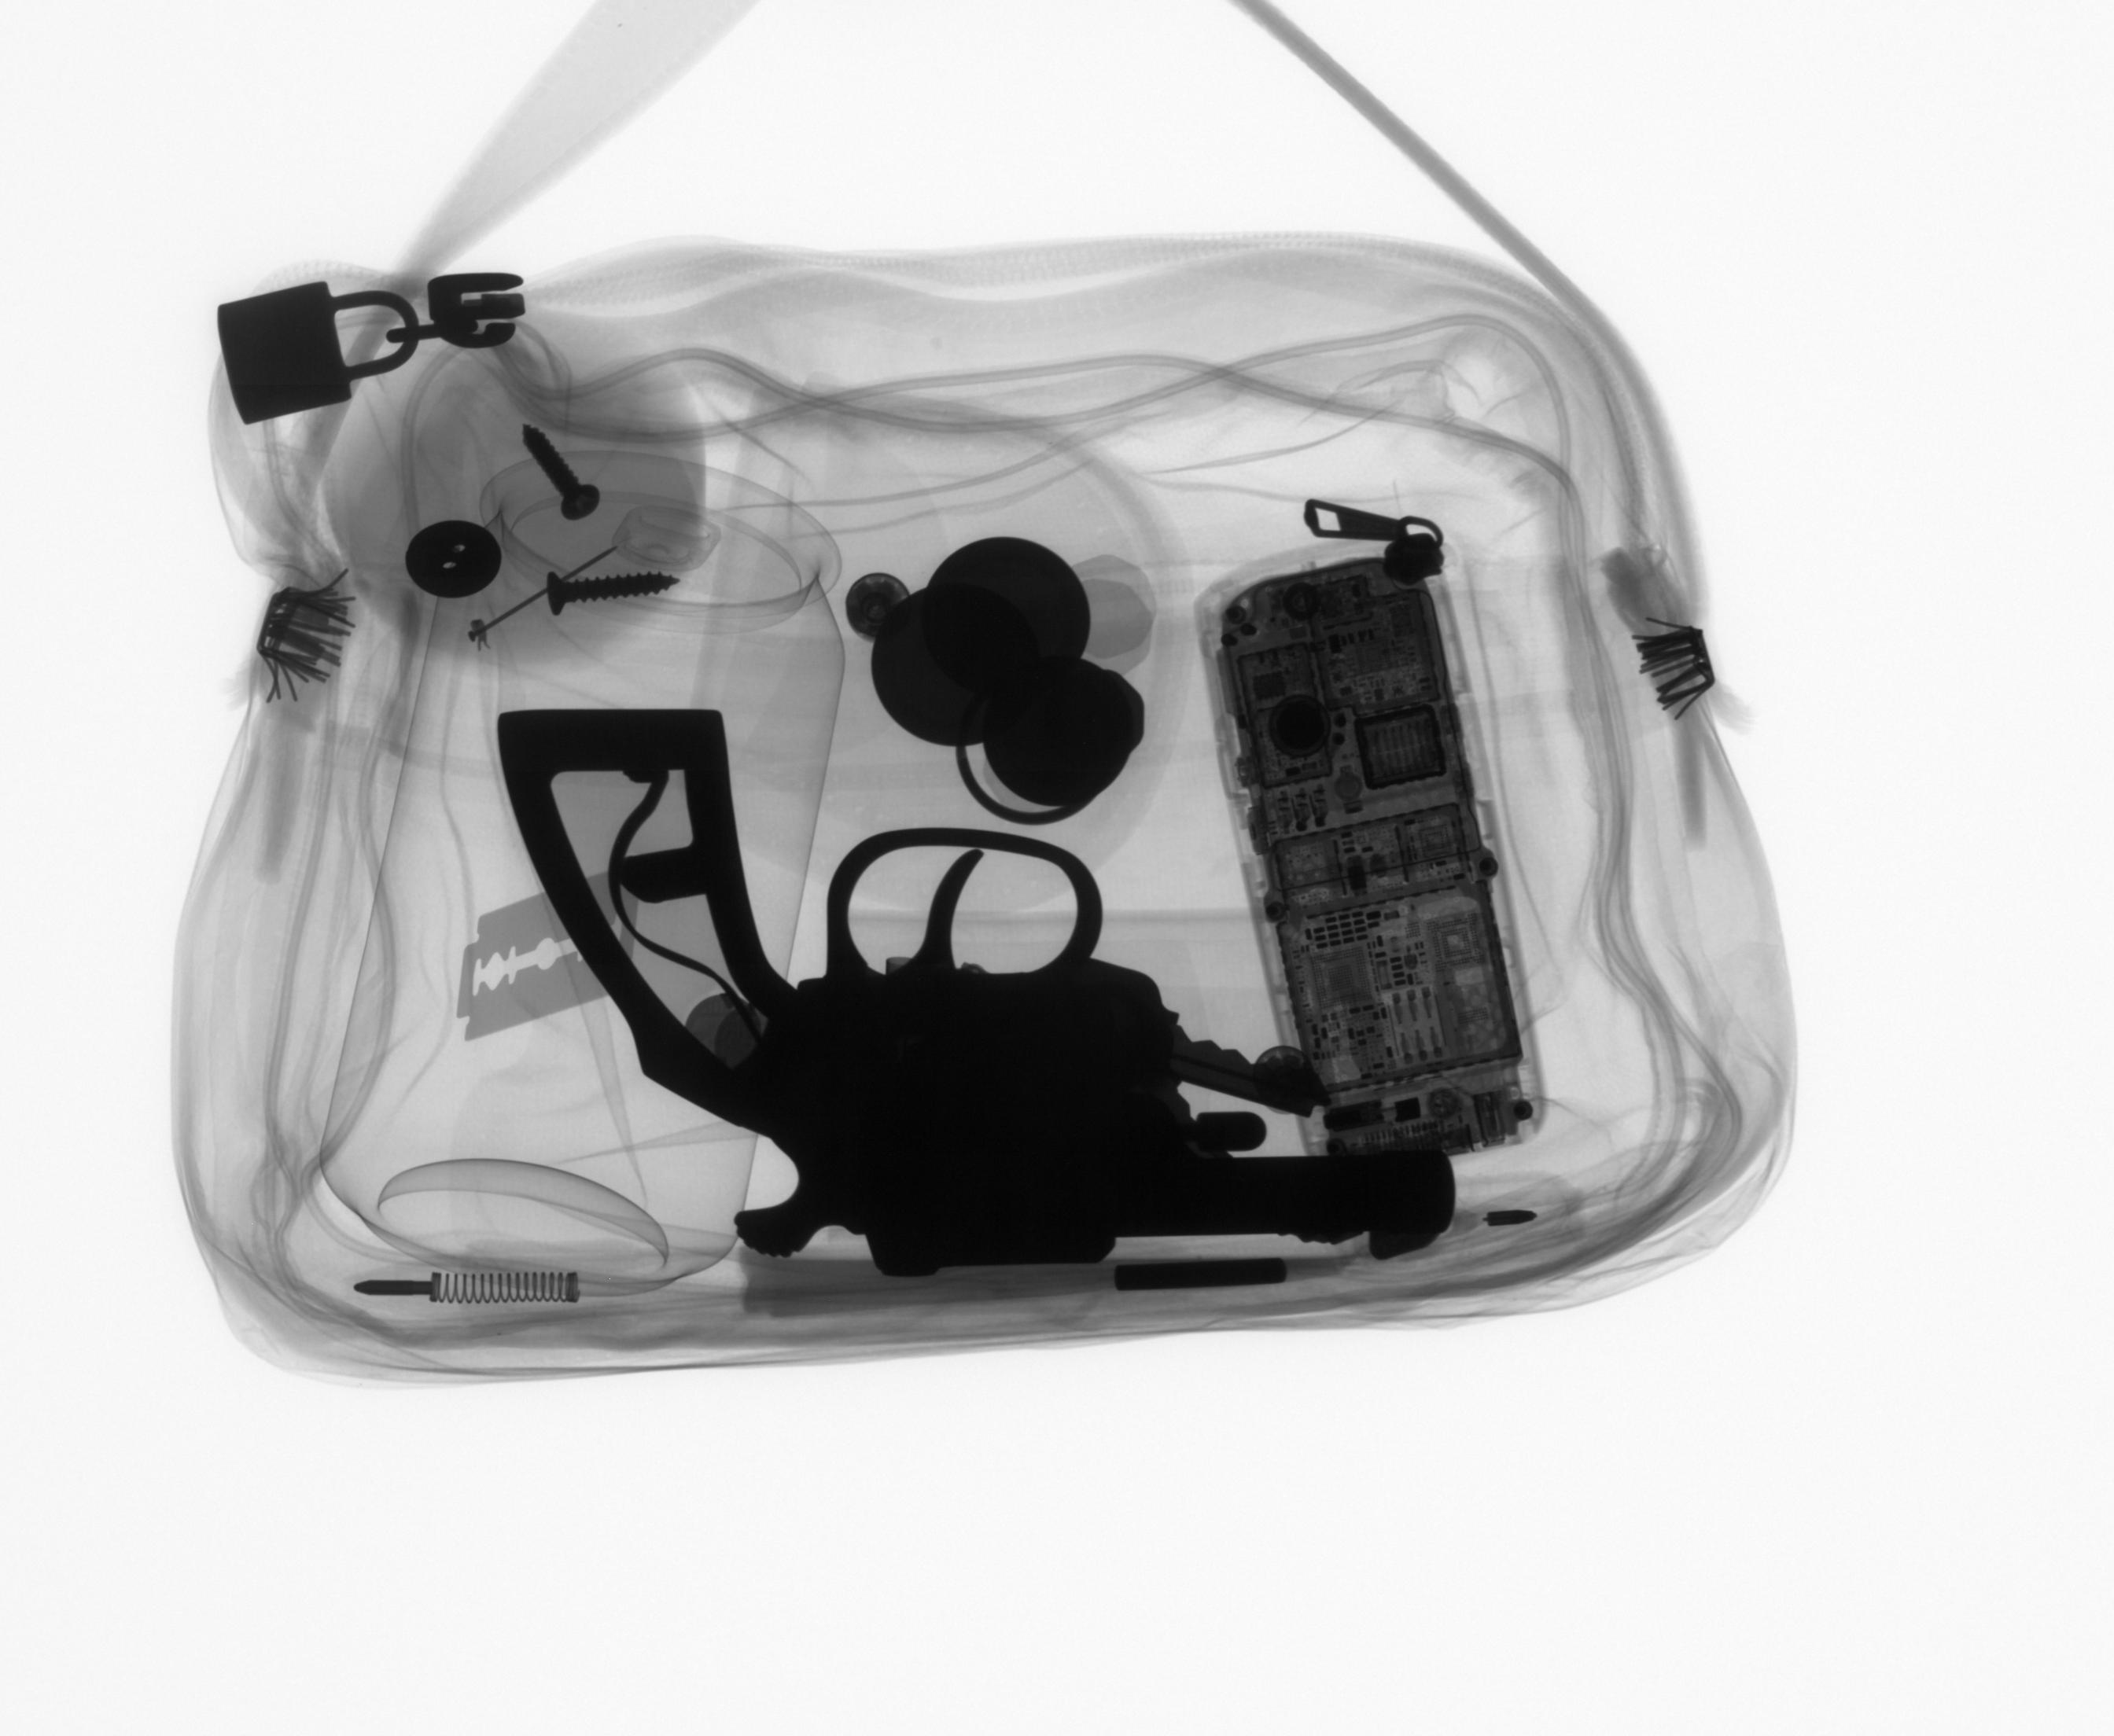Handgun: (478, 690, 1494, 1309)
RazorBlade: (435, 885, 613, 1048)
